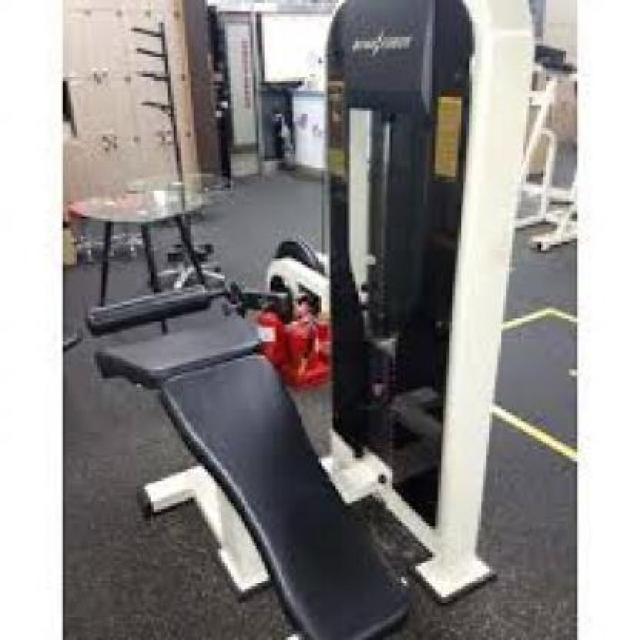reg curl machine: (91, 0, 535, 640)
